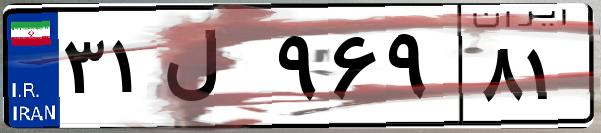1: (525, 38, 570, 115), (110, 28, 158, 98)
3: (57, 26, 110, 100)
6: (330, 28, 385, 110)
8: (475, 38, 525, 113)
9: (270, 28, 330, 110), (385, 28, 445, 110)
ل: (158, 20, 270, 120)
